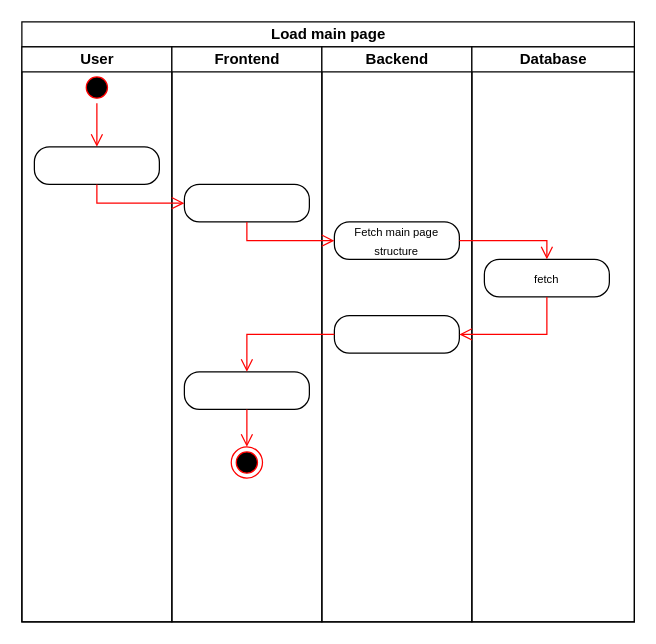
Image size: 656x644. Some labels were removed from this diagram. The centre of each missing label's shape, as x and y in pixels:
Enter main page: the point at 96,165
Render page: the point at 246,390
Send request for main page structure: the point at 246,202
Send structure: the point at 396,333
